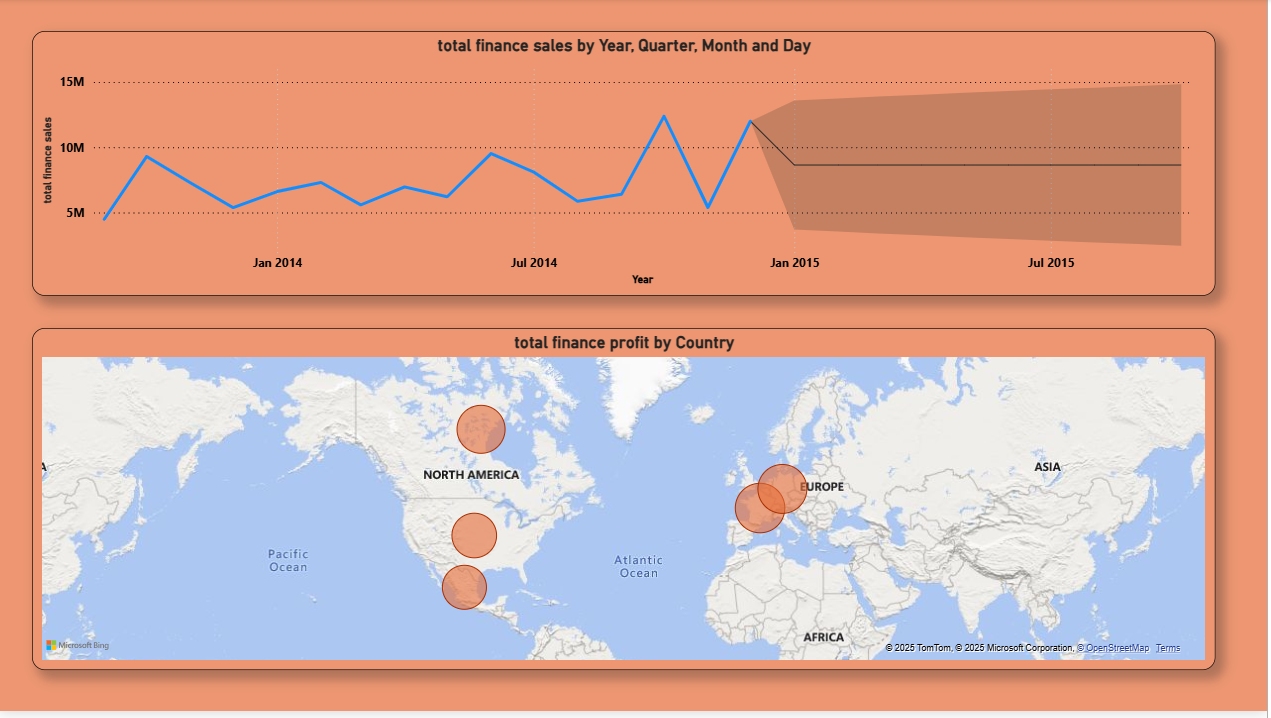

What the dashboard file says about the page in this screenshot:
{"tool":"powerbi","page":{"name":"finance","canvas":[1280,720],"ordinal":3},"visuals":[{"type":"lineChart","fields":{"Y":["financials.total finance sales"],"Category":["financials.Date.Variation.Date Hierarchy.Year","financials.Date.Variation.Date Hierarchy.Quarter","financials.Date.Variation.Date Hierarchy.Month","financials.Date.Variation.Date Hierarchy.Day"]},"box":[33.4,33.4,1194.5,267.2],"z":0},{"type":"map","fields":{"Category":["financials.Country"],"Size":["financials.total finance profit"]},"box":[33.4,332.4,1194.5,345.2],"z":1000}]}

Visuals, with their boxes in screenshot pixels (x1, y1, x2, y2), scaled from the page's 1280x720 canvas onto the 1271x718 screenshot:
lineChart - financials.total finance sales x financials.Date.Variation.Date Hierarchy.Year: 33:33:1219:300
map - financials.Country x financials.total finance profit: 33:331:1219:676
